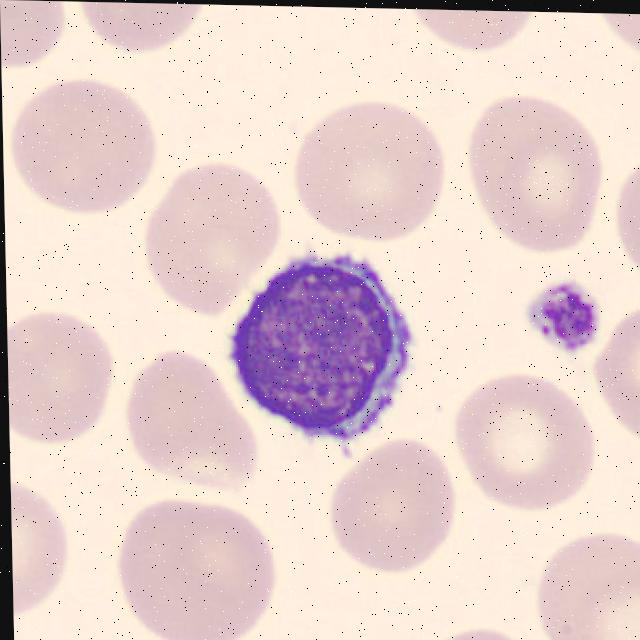lymphocyte: (202, 229, 451, 455)
platelets: (521, 267, 605, 361)
rbc: (296, 99, 452, 241), (147, 163, 288, 314), (114, 506, 264, 640), (124, 351, 264, 487), (12, 79, 158, 207), (472, 99, 595, 247), (461, 373, 593, 506), (7, 306, 116, 436), (331, 451, 450, 569), (531, 527, 640, 640), (11, 472, 64, 623), (78, 2, 204, 50), (597, 309, 640, 446), (410, 9, 533, 56), (0, 0, 68, 69), (590, 13, 640, 56), (420, 621, 525, 640), (621, 165, 640, 266)
